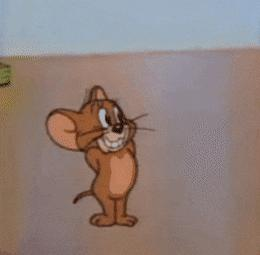jerry: (44, 85, 158, 228)
